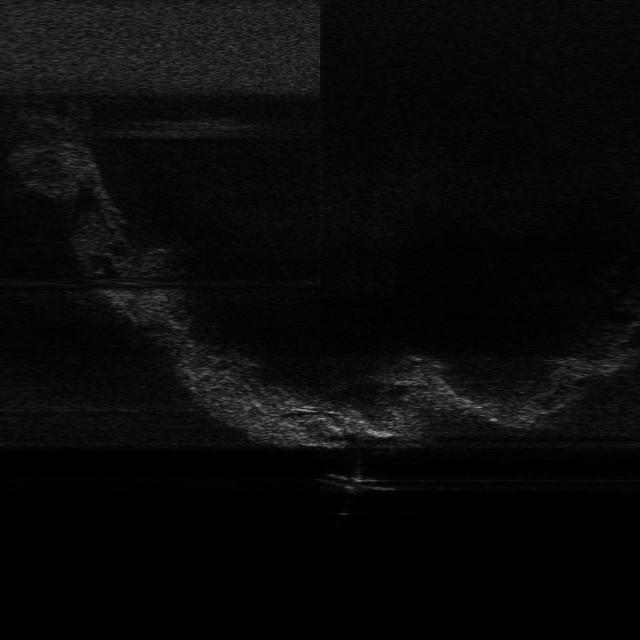plane: (320, 470, 400, 496)
